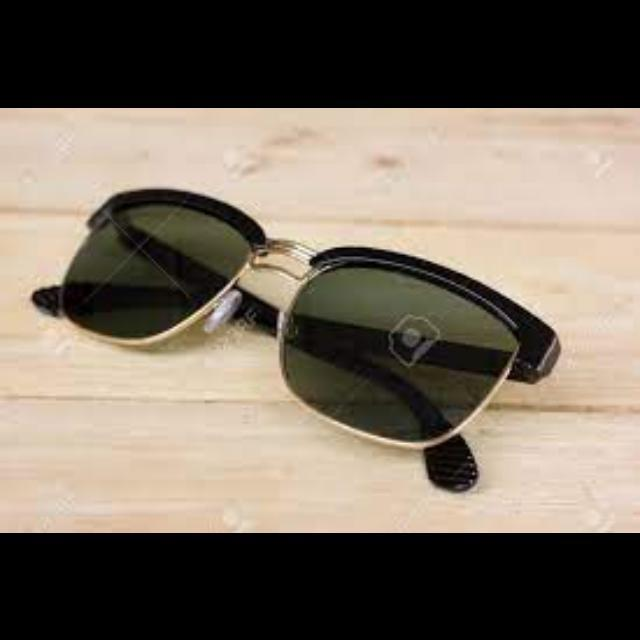glasses: (28, 148, 558, 492)
